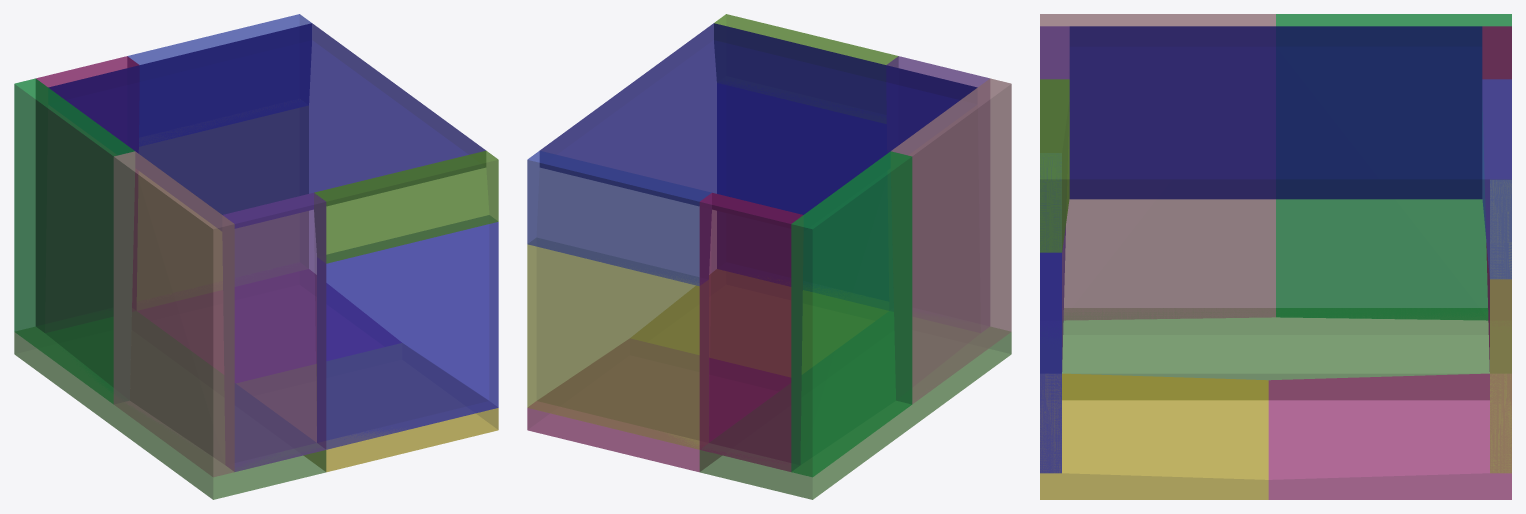
File: SinkAreaInnerDishWasher.obj
3 renders of one model, left to right at view 1: azimuth 30°, elevation 25°; view 2: azimuth 150°, elevation 25°; view 3: azimuth 270°, elevation 25°, orthographic. The views are drawn at different scales.
Visible parts, largest first — view 1: Shape_IndexedFaceSet.010_Shape_IndexedFaceSet.040; view 2: Shape_IndexedFaceSet.010_Shape_IndexedFaceSet.040; view 3: Shape_IndexedFaceSet.010_Shape_IndexedFaceSet.040.
Part boxes in pixels (box(x1,y1,x2,y2)): Shape_IndexedFaceSet.010_Shape_IndexedFaceSet.040: box(14, 14, 498, 499); Shape_IndexedFaceSet.010_Shape_IndexedFaceSet.040: box(527, 14, 1011, 499); Shape_IndexedFaceSet.010_Shape_IndexedFaceSet.040: box(1040, 14, 1511, 499).
Size of the model in its own units: 0.5636 by 0.5105 by 0.6806.
